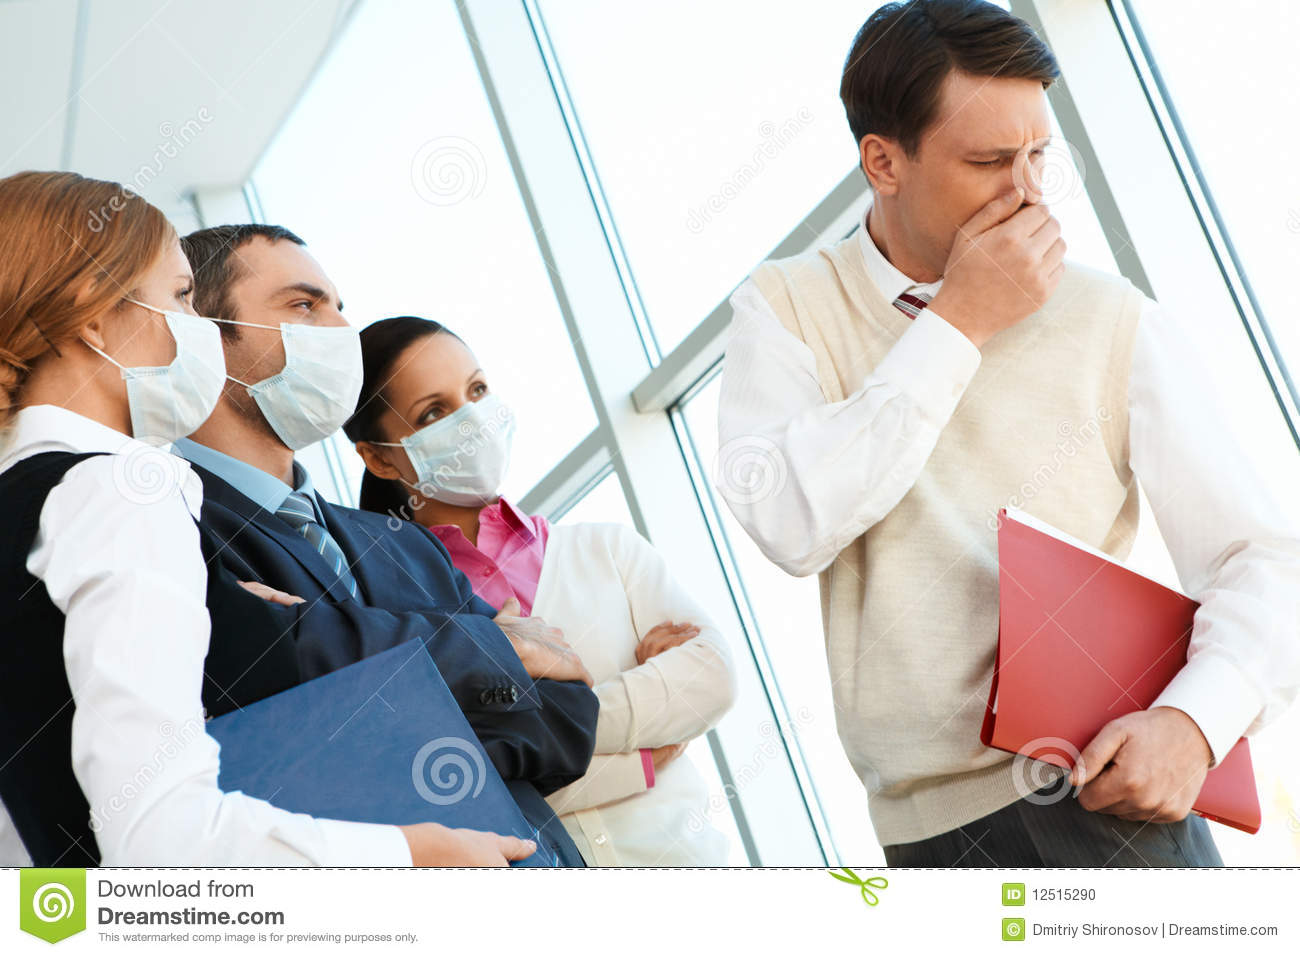mask: (256, 326, 365, 453), (123, 312, 230, 441), (410, 399, 518, 505)
